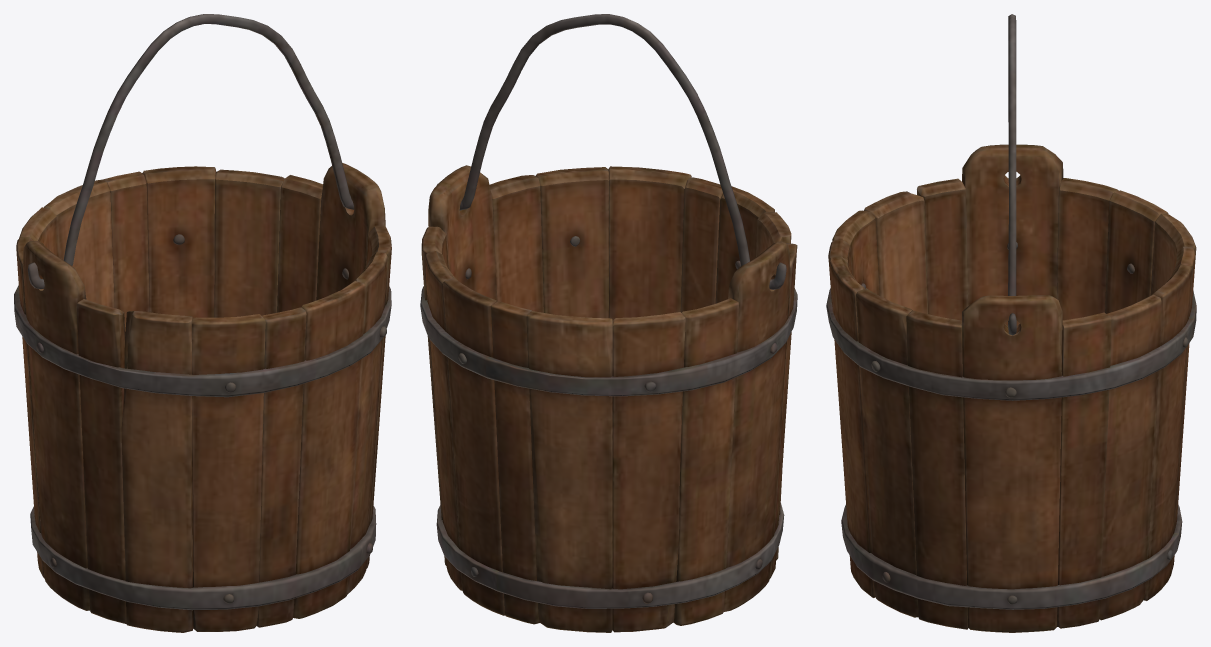
The model's file is wooden_bucket_01.gltf.
The picture shows the model from 3 angles, left to right: view 1: azimuth 30°, elevation 25°; view 2: azimuth 150°, elevation 25°; view 3: azimuth 270°, elevation 25°; orthographic projection.
Visible parts, largest first — view 1: wooden_bucket_01, wooden_bucket_01_handle; view 2: wooden_bucket_01, wooden_bucket_01_handle; view 3: wooden_bucket_01, wooden_bucket_01_handle.
Boxes of the visible parts, x1=… form: wooden_bucket_01: x1=14, y1=163, x2=391, y2=632; wooden_bucket_01_handle: x1=27, y1=14, x2=354, y2=289; wooden_bucket_01: x1=420, y1=165, x2=797, y2=632; wooden_bucket_01_handle: x1=437, y1=14, x2=786, y2=289; wooden_bucket_01: x1=826, y1=144, x2=1196, y2=632; wooden_bucket_01_handle: x1=1008, y1=14, x2=1016, y2=335.
Size of the model in its own units: 0.367 by 0.5499 by 0.3422.
1 material, 1 textured.
